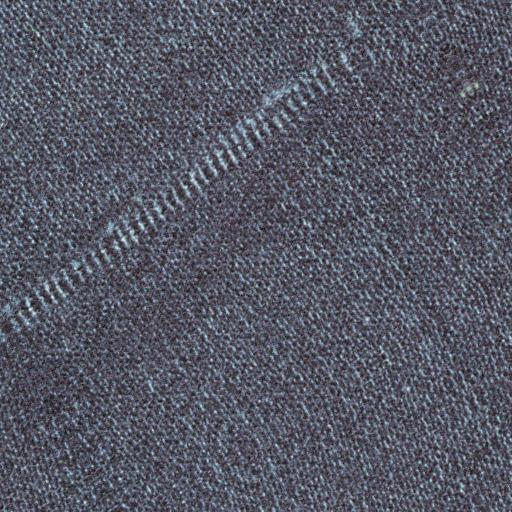slub: (1, 45, 361, 363)
